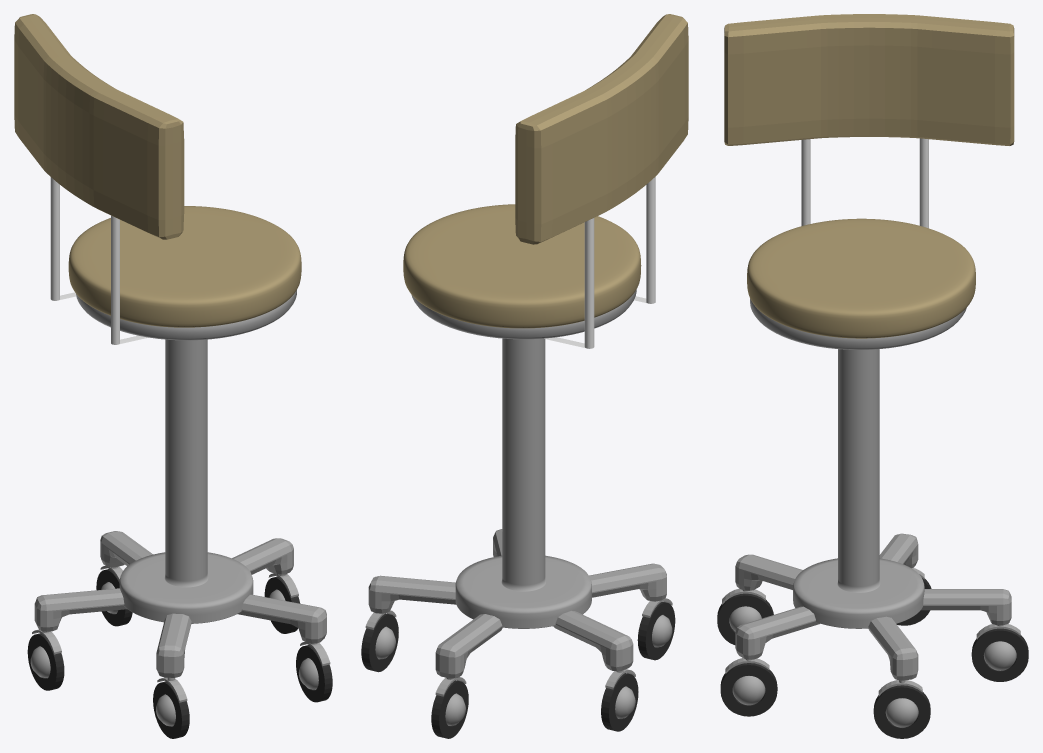
The model's file is lab_chair2.glb.
The picture shows the model from 3 angles, left to right: view 1: azimuth 30°, elevation 25°; view 2: azimuth 150°, elevation 25°; view 3: azimuth 270°, elevation 25°; orthographic projection. The views are drawn at different scales.
Visible parts, largest first — view 1: Cube.002, Circle.012, Circle, Cube, Cylinder.008, Cylinder.007, Circle.010, Circle.008, Circle.006, Circle.001, Circle.004; view 2: Cube.002, Circle.012, Circle, Cube, Cylinder.008, Cylinder.007, Circle.001, Circle.004, Circle.008, Circle.010; view 3: Cube.002, Circle.012, Circle, Cube, Circle.004, Circle.001, Circle.006, Circle.008, Cylinder.008, Cylinder.007, Sphere.001, Sphere.005 (+1 smaller).
Boxes of the visible parts, bbox=[...] form: Cube.002: bbox=[14, 14, 184, 239]; Circle.012: bbox=[68, 206, 301, 327]; Circle: bbox=[76, 290, 296, 623]; Cube: bbox=[34, 531, 326, 677]; Cylinder.008: bbox=[50, 177, 76, 300]; Cylinder.007: bbox=[111, 215, 147, 344]; Circle.010: bbox=[27, 633, 64, 690]; Circle.008: bbox=[153, 681, 189, 738]; Circle.006: bbox=[296, 645, 332, 702]; Circle.001: bbox=[96, 569, 132, 626]; Circle.004: bbox=[264, 576, 300, 633]; Cube.002: bbox=[515, 14, 688, 244]; Circle.012: bbox=[403, 204, 641, 328]; Circle: bbox=[411, 289, 636, 628]; Cube: bbox=[368, 529, 666, 678]; Cylinder.008: bbox=[544, 218, 594, 348]; Cylinder.007: bbox=[634, 177, 655, 303]; Circle.001: bbox=[431, 680, 468, 738]; Circle.004: bbox=[361, 613, 398, 672]; Circle.008: bbox=[637, 601, 675, 660]; Circle.010: bbox=[601, 673, 638, 731]; Cube.002: bbox=[724, 14, 1014, 145]; Circle.012: bbox=[747, 218, 975, 338]; Circle: bbox=[750, 298, 966, 628]; Cube: bbox=[735, 533, 1011, 680]; Circle.004: bbox=[873, 685, 930, 738]; Circle.001: bbox=[971, 628, 1028, 681]; Circle.006: bbox=[720, 663, 777, 716]; Circle.008: bbox=[717, 593, 773, 644]; Cylinder.008: bbox=[919, 138, 928, 228]; Cylinder.007: bbox=[801, 139, 810, 225]; Sphere.001: bbox=[885, 698, 918, 727]; Sphere.005: bbox=[983, 641, 1016, 670].
Bounding box in the file's own units: 0.9728 × 2.22 × 1.02.
